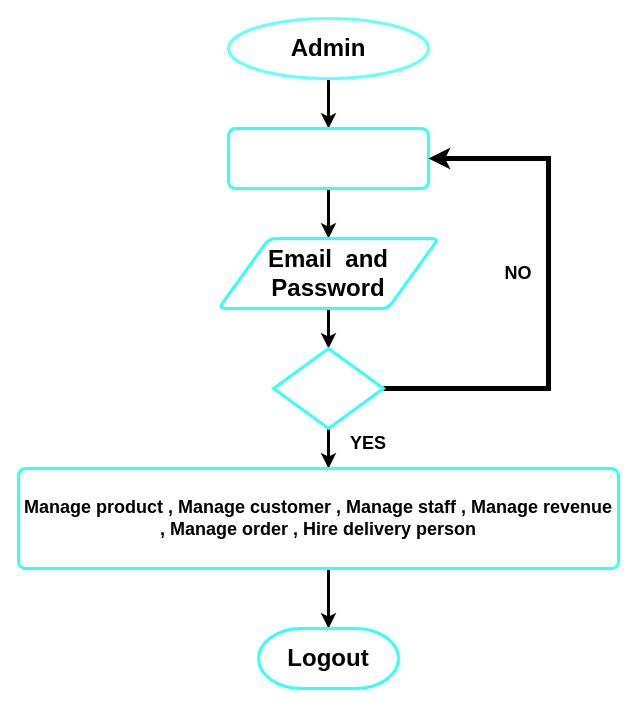
The diagram is 637 pixels wide and 707 high, and some of its shapes have lost their labels. Each missing label, with the centre of its shape:
"Login" belongs at (328,158).
"valid" belongs at (328,388).
